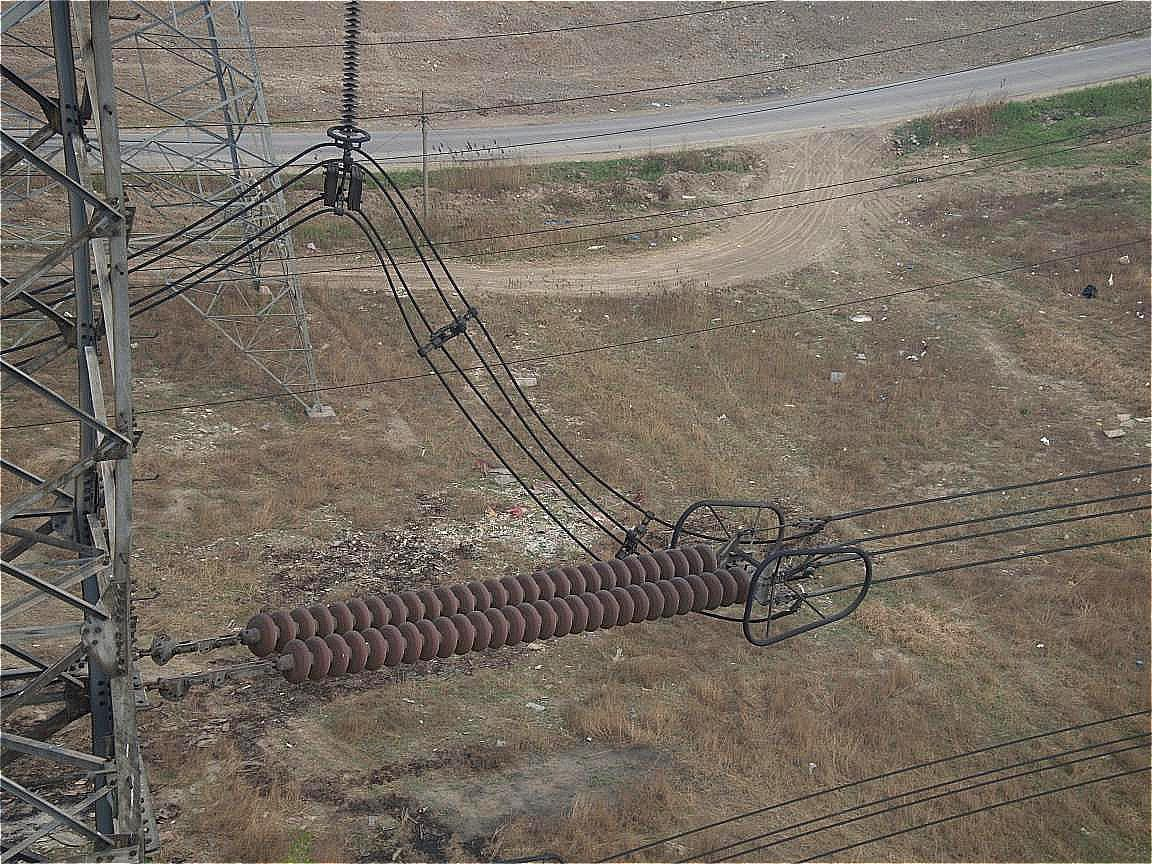insultor1: (217, 530, 781, 695)
